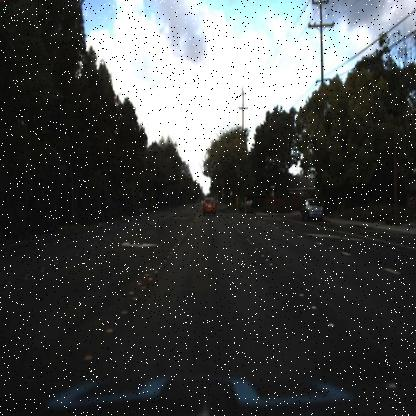car: (297, 196, 325, 222), (200, 194, 218, 223)
